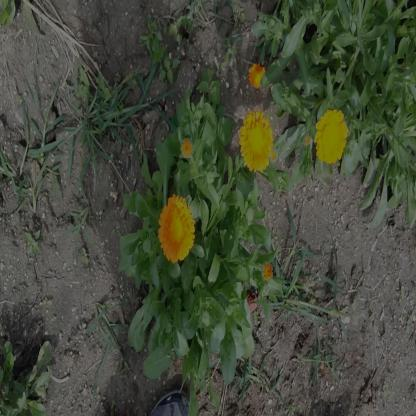marigold: (159, 197, 194, 262), (241, 108, 271, 170), (318, 106, 348, 161)
